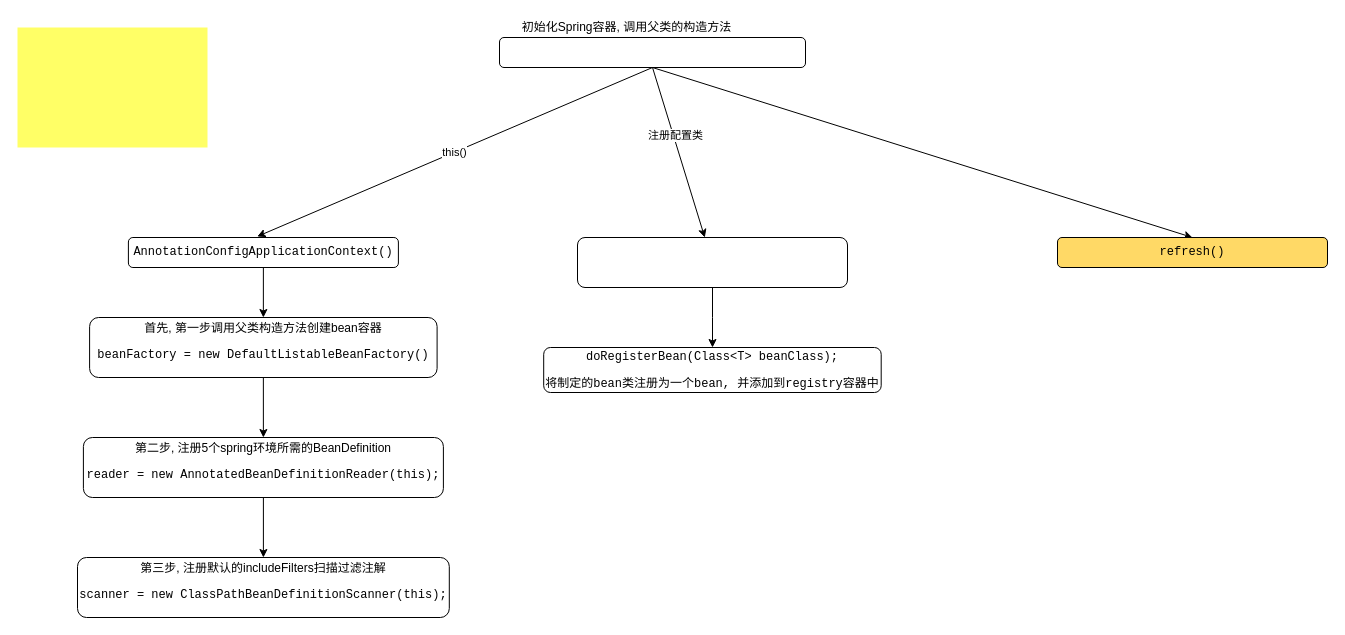
Some shapes in this 1345 by 635 pixel diagram are drawn without their labels. The shapes that lost their labels are listed below. From the top down, each one's centre as x and y in pixels, then its label:
the point at 652,52: AnnotationConfigApplicationContext(Class<T> config)
the point at 112,87: 第一步:初始化 1. 创建spring容器 2. 初始化环境所需的5个BeanDefinition
the point at 712,262: 注册配置类, 成为BeanDefinition register(componentClasses);
